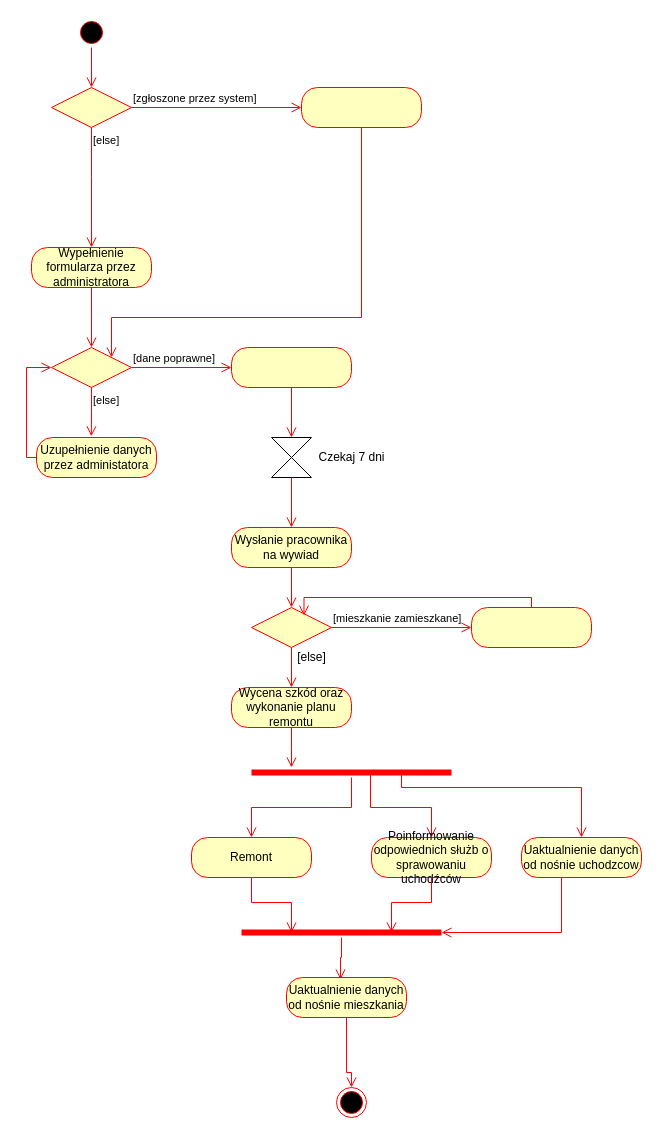
The diagram is 659 pixels wide and 1135 high, and some of its shapes have lost their labels. The shapes that lost their labels are listed below. From the top down, each one's centre as x and y in pixels, then its label:
At [361,107]: "Automatyczne wypelnienie formularza".
At [291,367]: "Wysłanie informacji do uchodźcy".
At [531,627]: "eksmisja".
